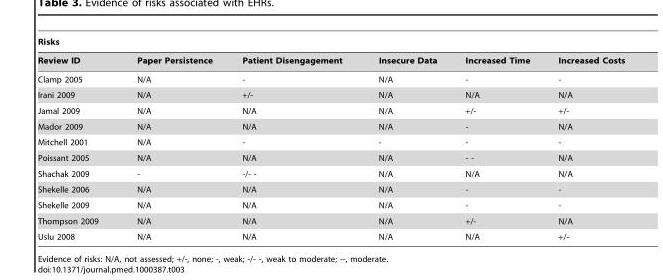table: (37, 37, 624, 241)
table column: (226, 37, 359, 241), (116, 37, 226, 241), (450, 37, 543, 241), (359, 37, 450, 241), (543, 37, 624, 241), (37, 37, 116, 241)
table column header: (37, 37, 624, 69)
table row: (37, 50, 624, 69), (37, 101, 624, 118), (37, 69, 624, 85), (37, 85, 624, 101), (37, 118, 624, 134), (37, 149, 624, 165), (37, 165, 624, 181), (37, 181, 624, 197), (37, 211, 624, 227), (37, 134, 624, 149), (37, 197, 624, 211), (37, 227, 624, 241), (37, 37, 624, 50)
table spanning cell: (37, 37, 624, 50)
